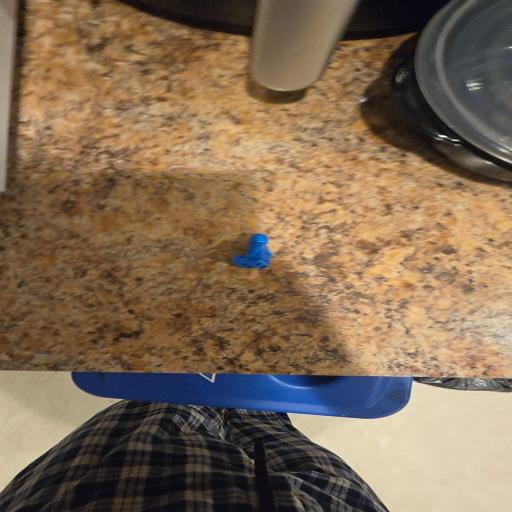Blue: (233, 234, 272, 268)
